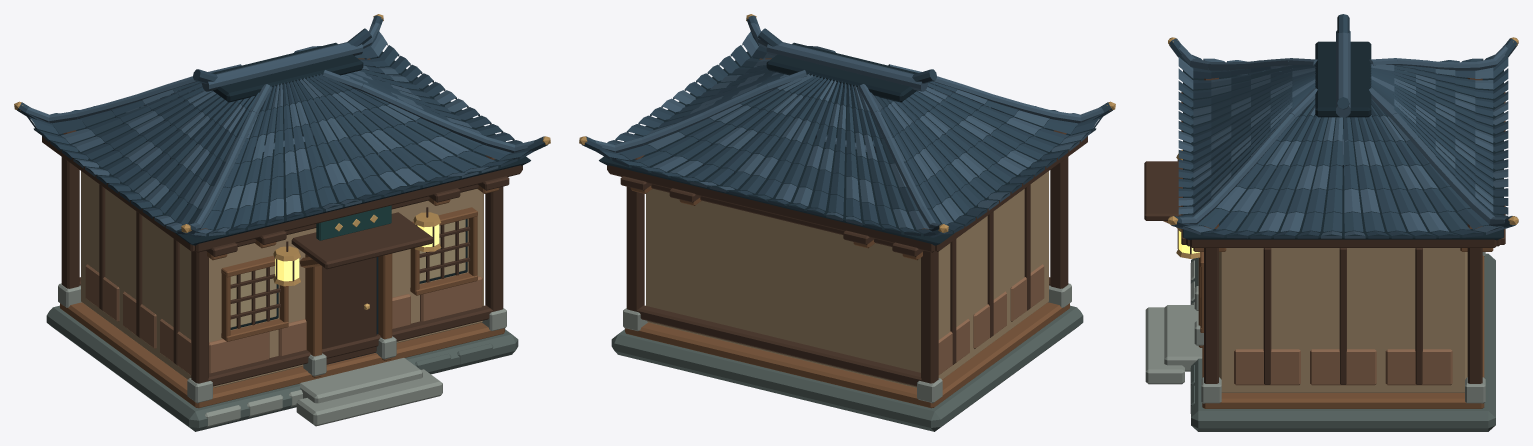
Rendered from house.glb.
3 views of the same model, side by side, from view 1: azimuth 30°, elevation 25°; view 2: azimuth 150°, elevation 25°; view 3: azimuth 270°, elevation 25° (orthographic).
Parts seen in each view (by area): view 1: house_Roof_slate, house_Timber, house_Roof_weathered, house_Warm_plaster, house_Timber_edge, house_Roof_shadow, house_Stone_light, house_Clay_panels, house_Ash_stone, house_Parchment, house_Jade_deep, house_Old_gold (+1 smaller); view 2: house_Warm_plaster, house_Roof_slate, house_Roof_weathered, house_Timber, house_Roof_shadow, house_Ash_stone, house_Timber_edge, house_Clay_panels, house_Stone_light; view 3: house_Roof_slate, house_Warm_plaster, house_Roof_weathered, house_Roof_shadow, house_Timber, house_Ash_stone, house_Clay_panels, house_Stone_light, house_Timber_edge, house_Old_gold.
Boxes of the visible parts, x1,y1,x2,y2 form: house_Roof_slate: (17, 15, 548, 237); house_Timber: (42, 58, 522, 386); house_Roof_weathered: (26, 22, 534, 236); house_Warm_plaster: (81, 171, 483, 387); house_Timber_edge: (60, 185, 504, 408); house_Roof_shadow: (33, 42, 530, 364); house_Stone_light: (58, 283, 506, 427); house_Clay_panels: (85, 264, 482, 374); house_Ash_stone: (46, 305, 518, 431); house_Parchment: (230, 219, 465, 327); house_Jade_deep: (316, 205, 391, 240); house_Old_gold: (14, 14, 550, 286); house_Warm_plaster: (646, 171, 1048, 387); house_Roof_slate: (581, 15, 1112, 237); house_Roof_weathered: (595, 22, 1103, 232); house_Timber: (607, 58, 1087, 386); house_Roof_shadow: (599, 42, 1096, 245); house_Ash_stone: (611, 305, 1083, 431); house_Timber_edge: (625, 185, 1069, 408); house_Clay_panels: (938, 264, 1044, 374); house_Stone_light: (623, 283, 1071, 403); house_Roof_slate: (1169, 14, 1517, 238); house_Warm_plaster: (1219, 248, 1467, 392); house_Roof_weathered: (1178, 30, 1508, 238); house_Roof_shadow: (1183, 41, 1503, 240); house_Timber: (1144, 77, 1505, 384); house_Ash_stone: (1190, 253, 1495, 431); house_Clay_panels: (1234, 349, 1452, 385); house_Stone_light: (1145, 252, 1485, 403); house_Timber_edge: (1163, 221, 1493, 408); house_Old_gold: (1168, 37, 1518, 258).
Bounding box in the file's own units: 5.26 × 3.99 × 4.54.
